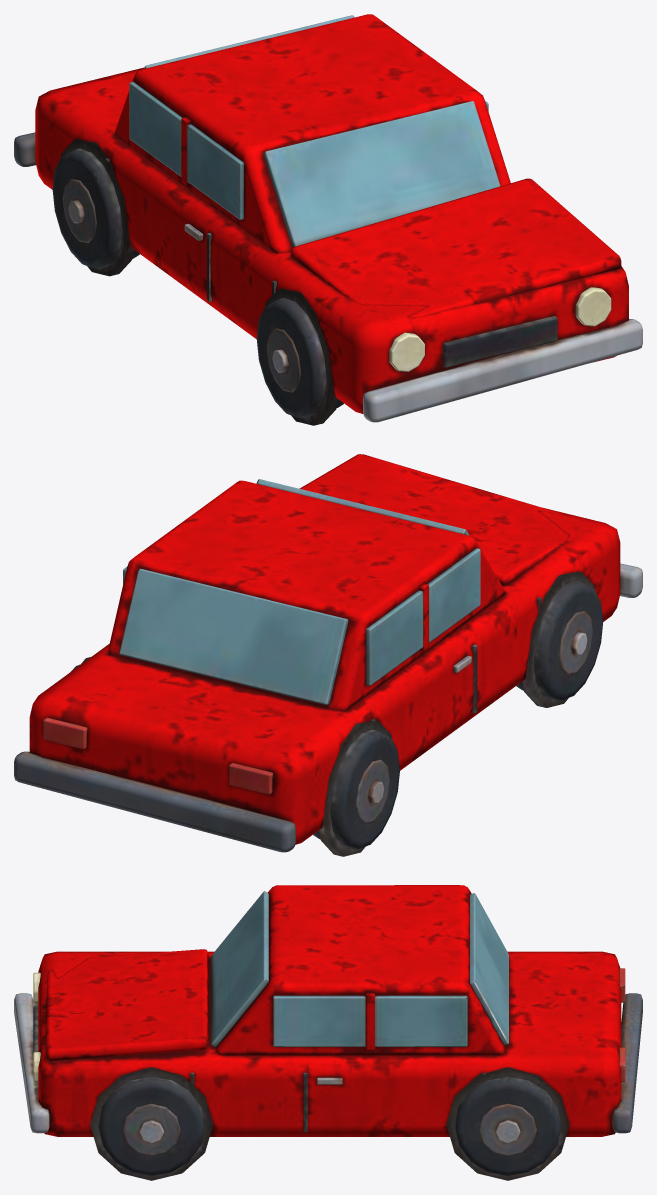
The model's file is car_shell.glb.
3 views of the same model, one above another, from view 1: azimuth 30°, elevation 25°; view 2: azimuth 150°, elevation 25°; view 3: azimuth 270°, elevation 25° (orthographic). The views are drawn at different scales.
Parts seen in each view (by area): view 1: body; view 2: body; view 3: body.
Boxes of the visible parts, box(x1,y1,x2,y2) form: body: box(14, 14, 642, 425); body: box(14, 454, 642, 856); body: box(14, 885, 642, 1180).
Bounding box in the file's own units: 1.95 × 1.28 × 3.88.
1 material, 1 textured.
